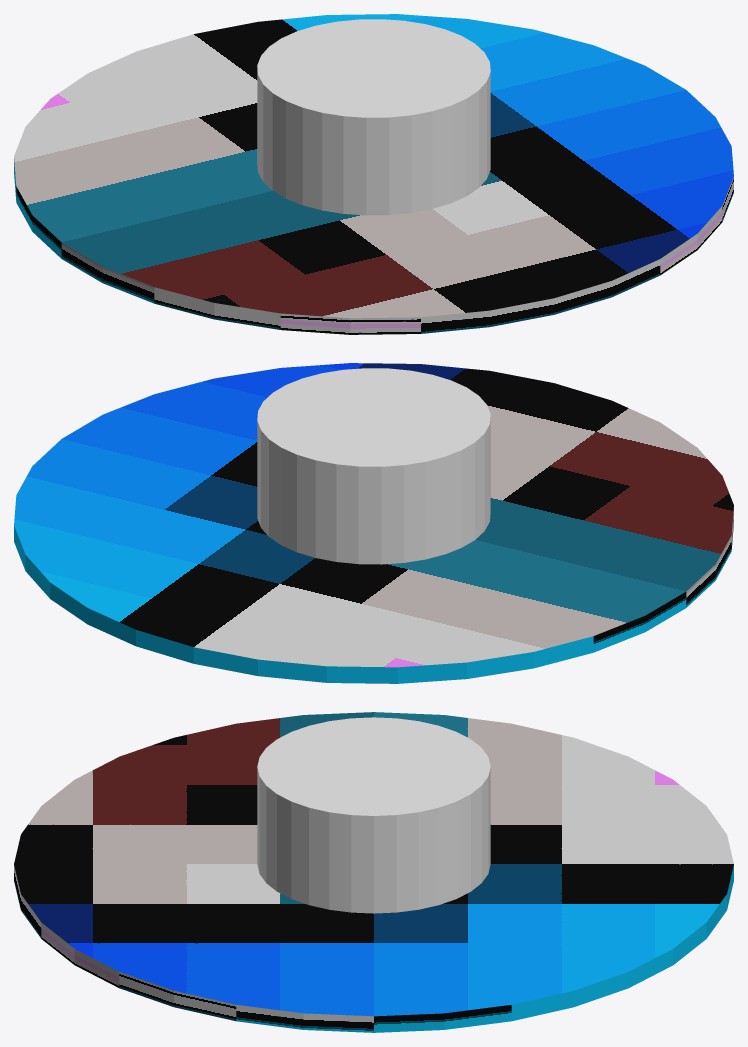
The model's file is CompactDisc.glb.
3 views of the same model, one above another, from view 1: azimuth 30°, elevation 25°; view 2: azimuth 150°, elevation 25°; view 3: azimuth 270°, elevation 25° (orthographic).
Visible parts, largest first — view 1: Cylinder, Cylinder.001; view 2: Cylinder, Cylinder.001; view 3: Cylinder, Cylinder.001.
Part boxes in pixels (<box>): Cylinder: <box>14,14,733,334</box>; Cylinder.001: <box>257,19,490,215</box>; Cylinder: <box>14,363,733,683</box>; Cylinder.001: <box>257,368,490,564</box>; Cylinder: <box>14,712,733,1032</box>; Cylinder.001: <box>257,717,490,913</box>.
Bounding box in the file's own units: 2 × 0.6484 × 2.
1 material, 1 textured.
